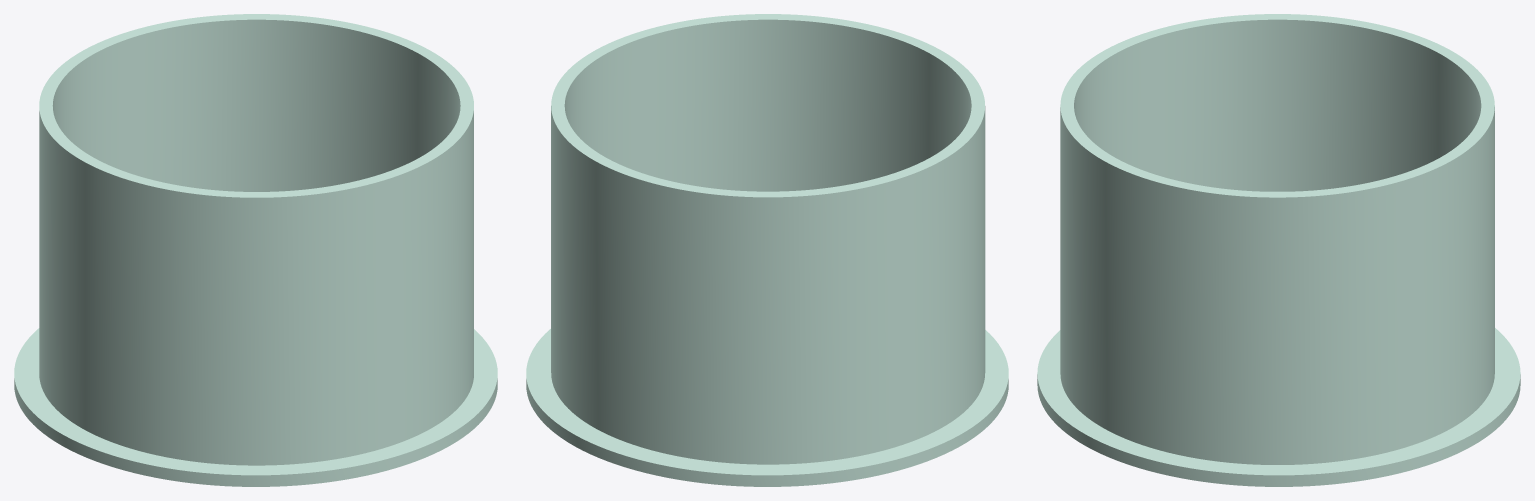
The picture shows the model from 3 angles, left to right: view 1: azimuth 30°, elevation 25°; view 2: azimuth 150°, elevation 25°; view 3: azimuth 270°, elevation 25°; orthographic projection.
Visible parts, largest first — view 1: Renderer Node; view 2: Renderer Node; view 3: Renderer Node.
Part boxes in pixels (left/top/right/bottom): Renderer Node: left=14, top=14, right=497, bottom=486; Renderer Node: left=526, top=14, right=1008, bottom=486; Renderer Node: left=1037, top=14, right=1520, bottom=486.
Size of the model in its own units: 1.18 by 0.75 by 1.18.
